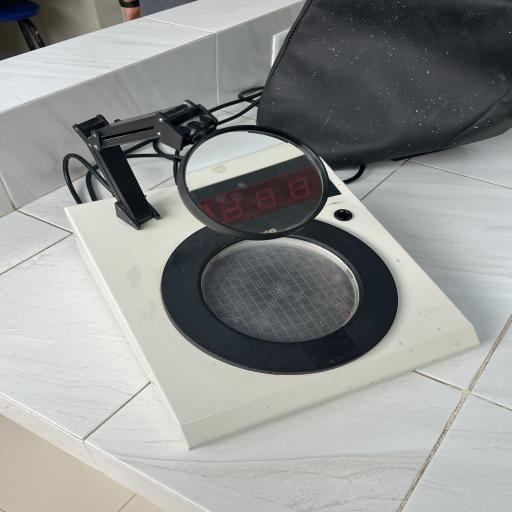Contador_Colonias_CC1: (52, 96, 494, 454)
